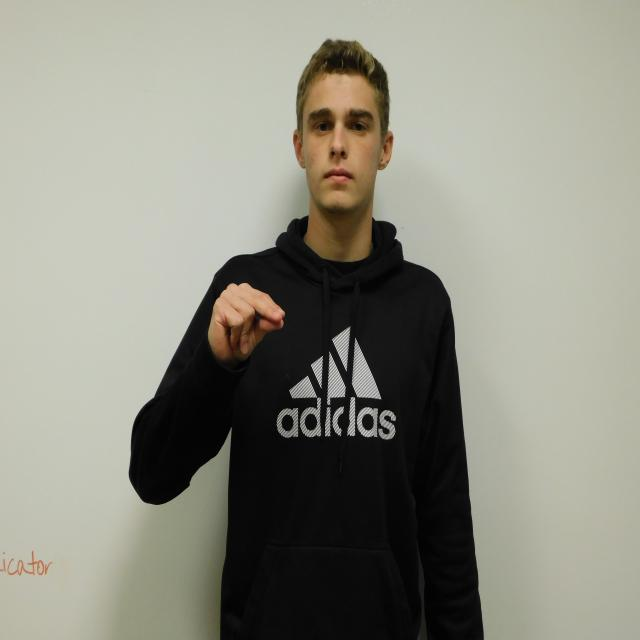no: (209, 282, 285, 363)
